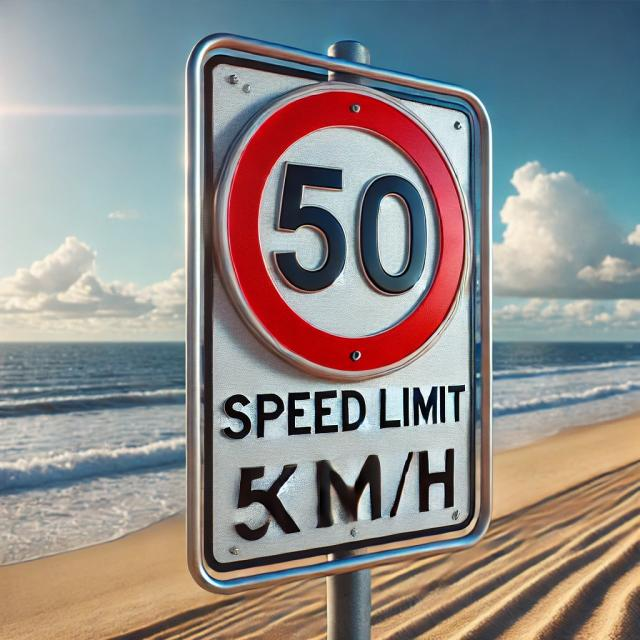Speed limit 50: (213, 81, 473, 383)
